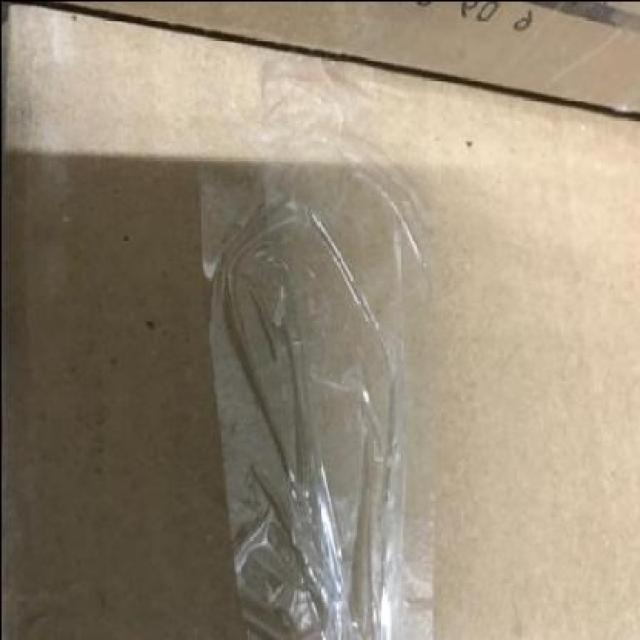CARDBOARD: (0, 1, 638, 640)
PLASTIC: (197, 54, 435, 640)
